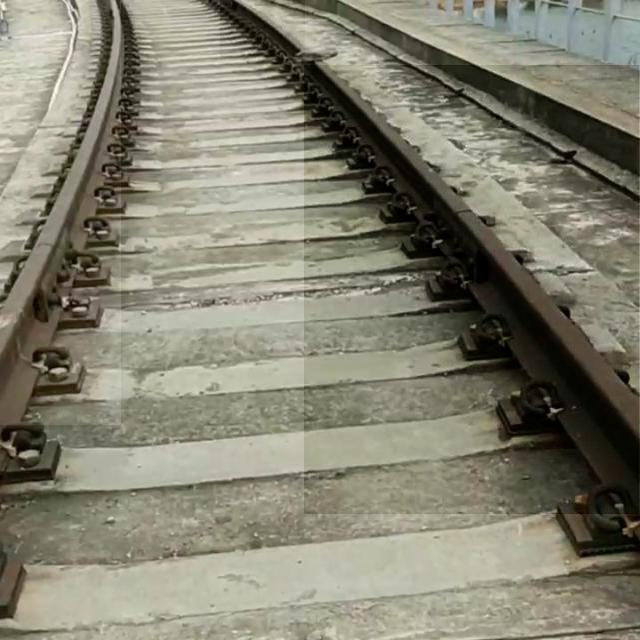rail: (306, 66, 640, 514), (1, 1, 122, 426), (221, 1, 306, 58)
